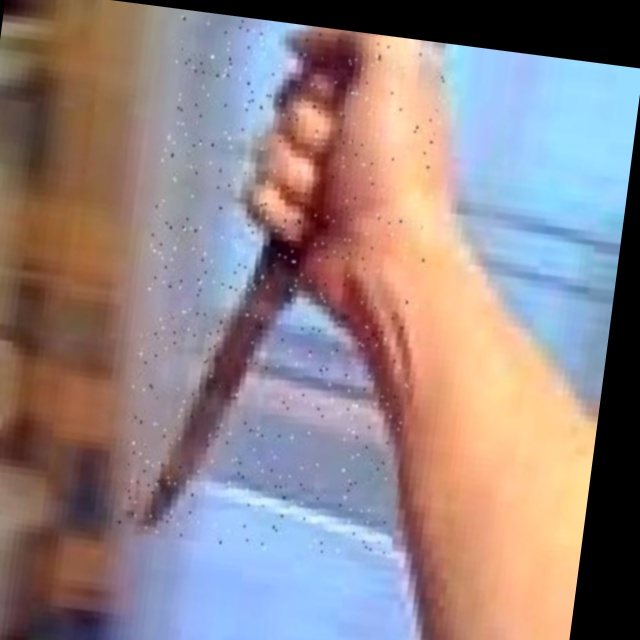Sharp-Object: (114, 11, 452, 564)
